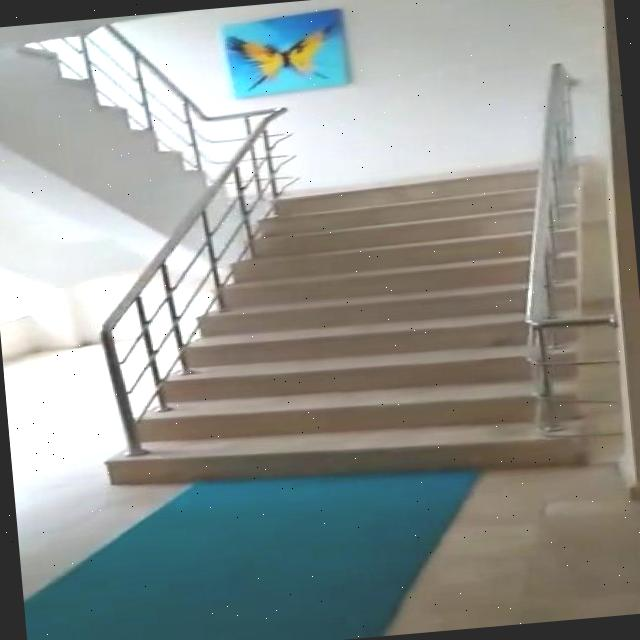stairs: (84, 159, 614, 504)
